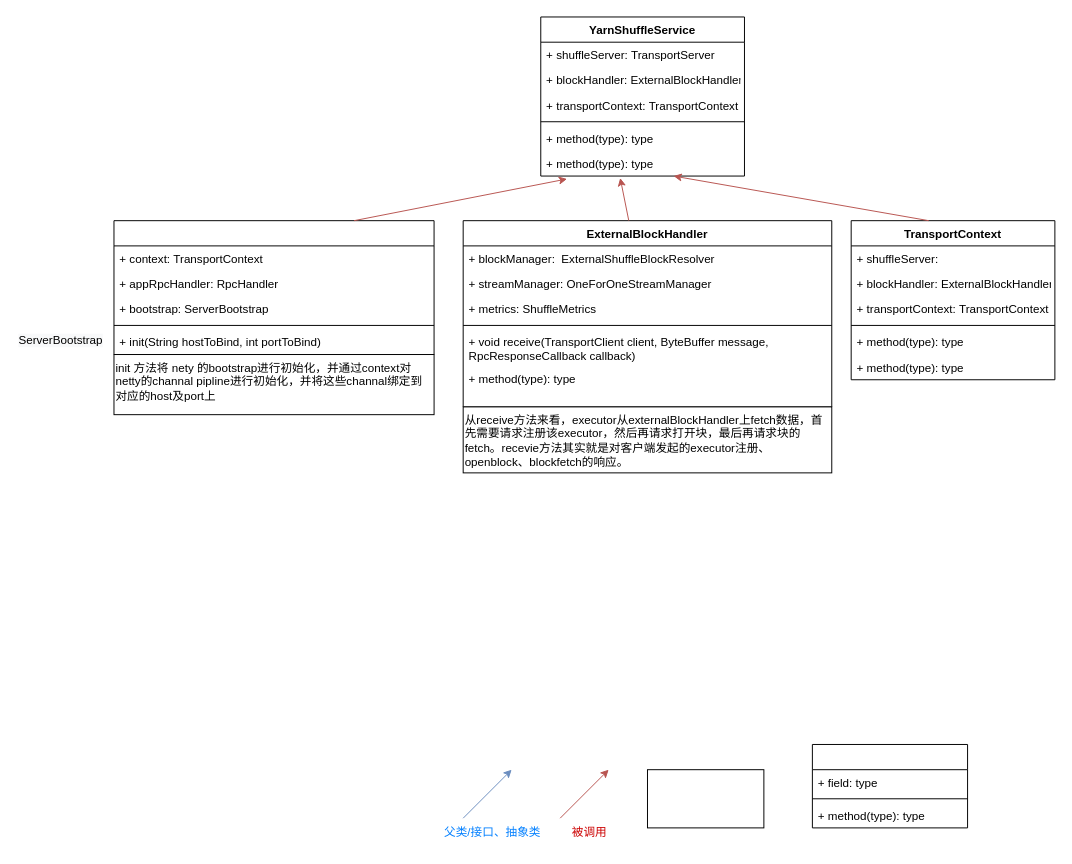
The diagram is 1072 pixels wide and 864 high, and some of its shapes have lost their labels. Each missing label, with the box of its shape:
Classname: (811, 744, 968, 828)
TransportServer: (113, 220, 434, 355)
注释说明: (647, 769, 764, 828)
